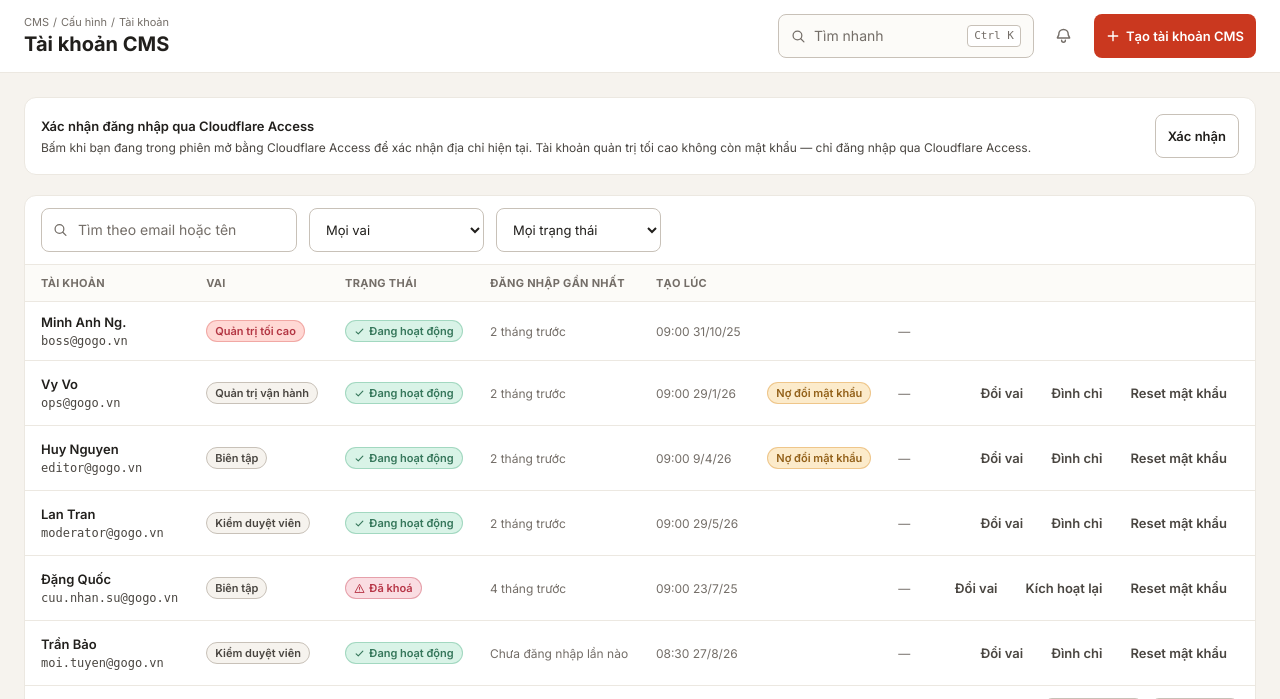
it: AdminListScreen (CMS-021) › keeps super_admin in the role filter — reading is not writing
Expected: the table is shown, [25,265,1255,685]
Select "Quản trị tối cao" in the dropdown named "Vai" at coordinates (396, 230), box [309,208,484,252]
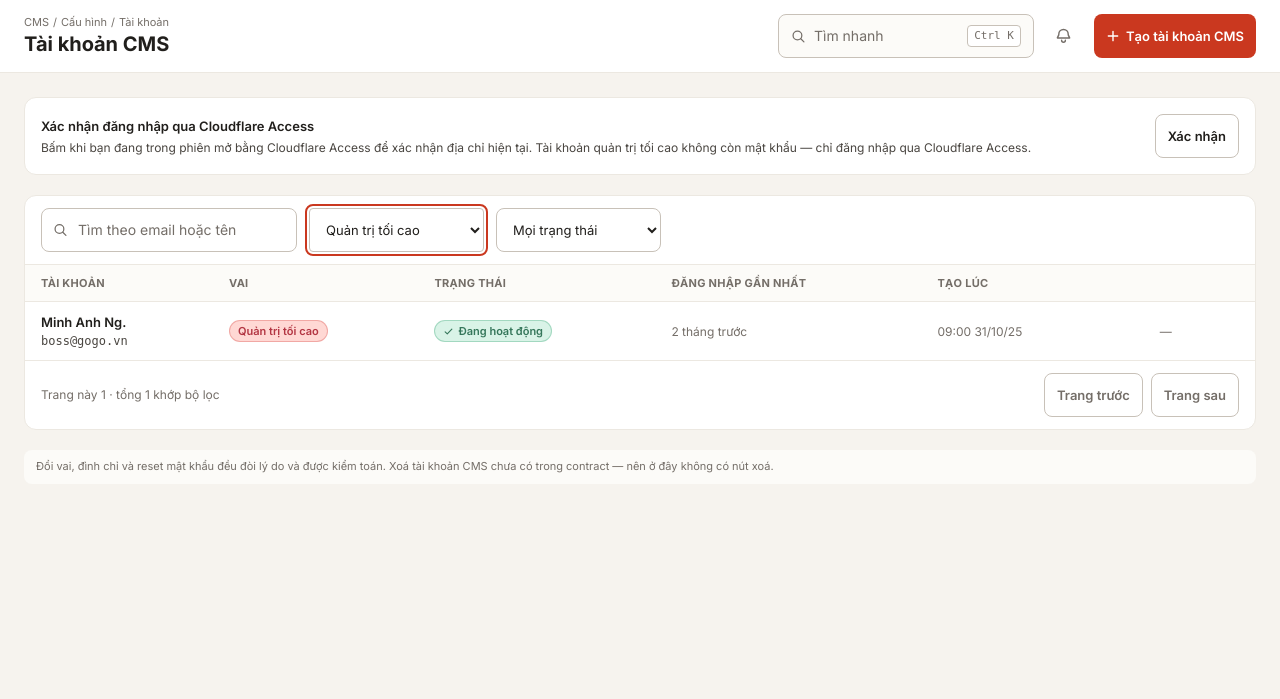
Expected: the text "Trang này 1 · tổng 1 khớp bộ lọc" is shown, [41,387,220,403]
